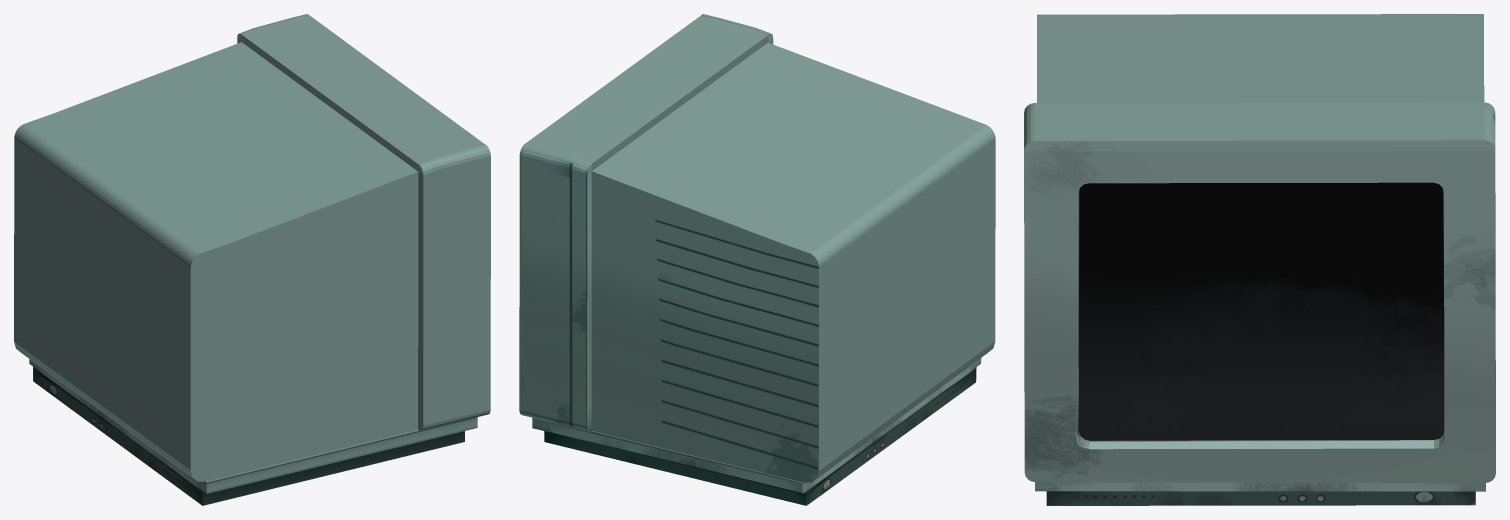
The model's file is ComputerScreen2.fbx.
3 renders of one model, left to right at view 1: azimuth 30°, elevation 25°; view 2: azimuth 150°, elevation 25°; view 3: azimuth 270°, elevation 25°, orthographic. The views are drawn at different scales.
Parts seen in each view (by area): view 1: ComputerScreenTexture; view 2: ComputerScreenTexture; view 3: ComputerScreenTexture.
Part boxes in pixels (x1,y1,x2,y2): ComputerScreenTexture: [14, 14, 490, 505]; ComputerScreenTexture: [519, 14, 995, 505]; ComputerScreenTexture: [1024, 14, 1495, 505].
Size of the model in its own units: 85.17 by 81.85 by 93.17.
Materials: 1 (1 with a texture image).
